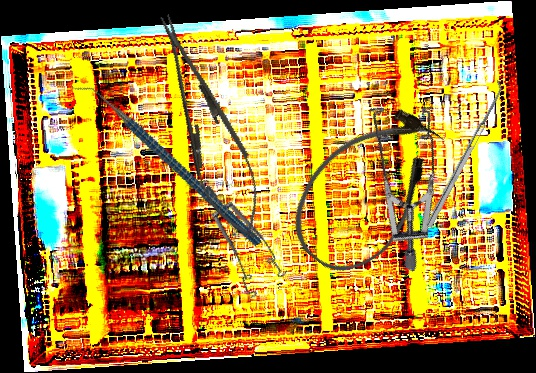Cannula: (272, 89, 464, 291)
Chopper: (71, 41, 262, 288)
Needle Holder: (139, 5, 278, 249)
Spatula Surgical: (419, 79, 508, 228)
Speculum: (308, 81, 491, 273), (169, 185, 305, 307)
